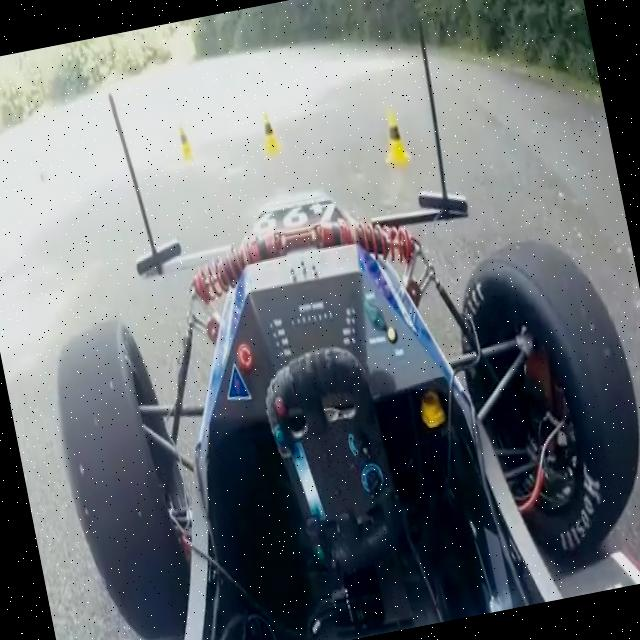yellow_cone: (376, 102, 412, 174), (258, 109, 282, 157), (173, 122, 196, 169)
